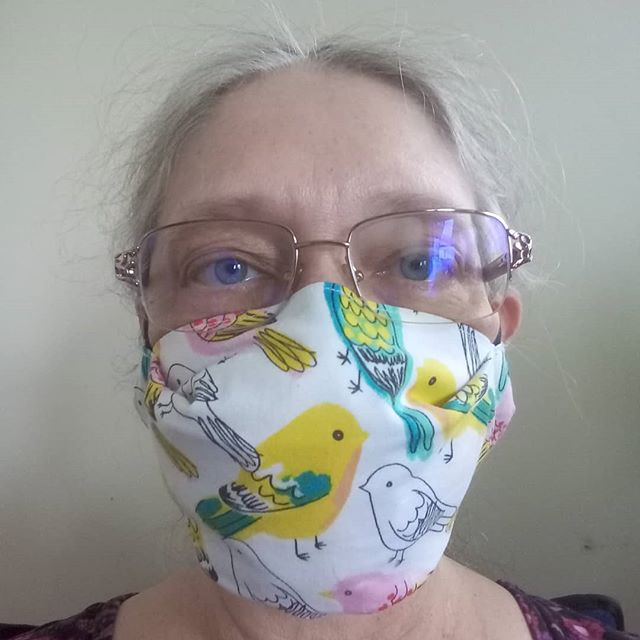homemade: (116, 290, 547, 616)
